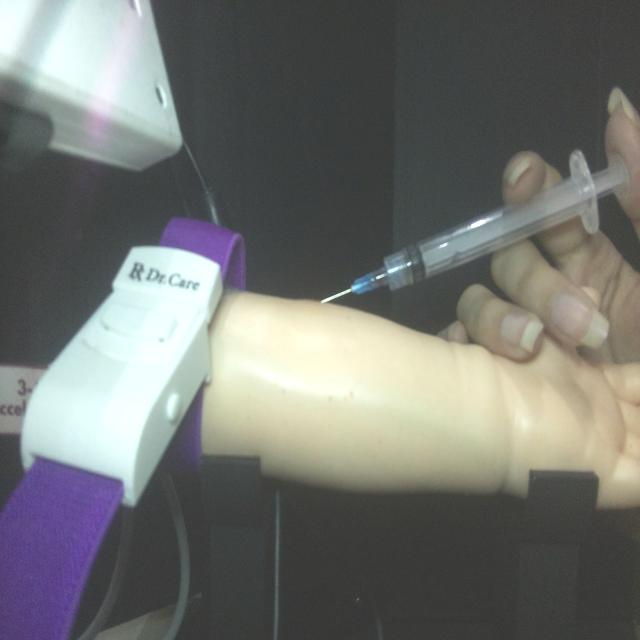15 degrees: (318, 146, 630, 306)
